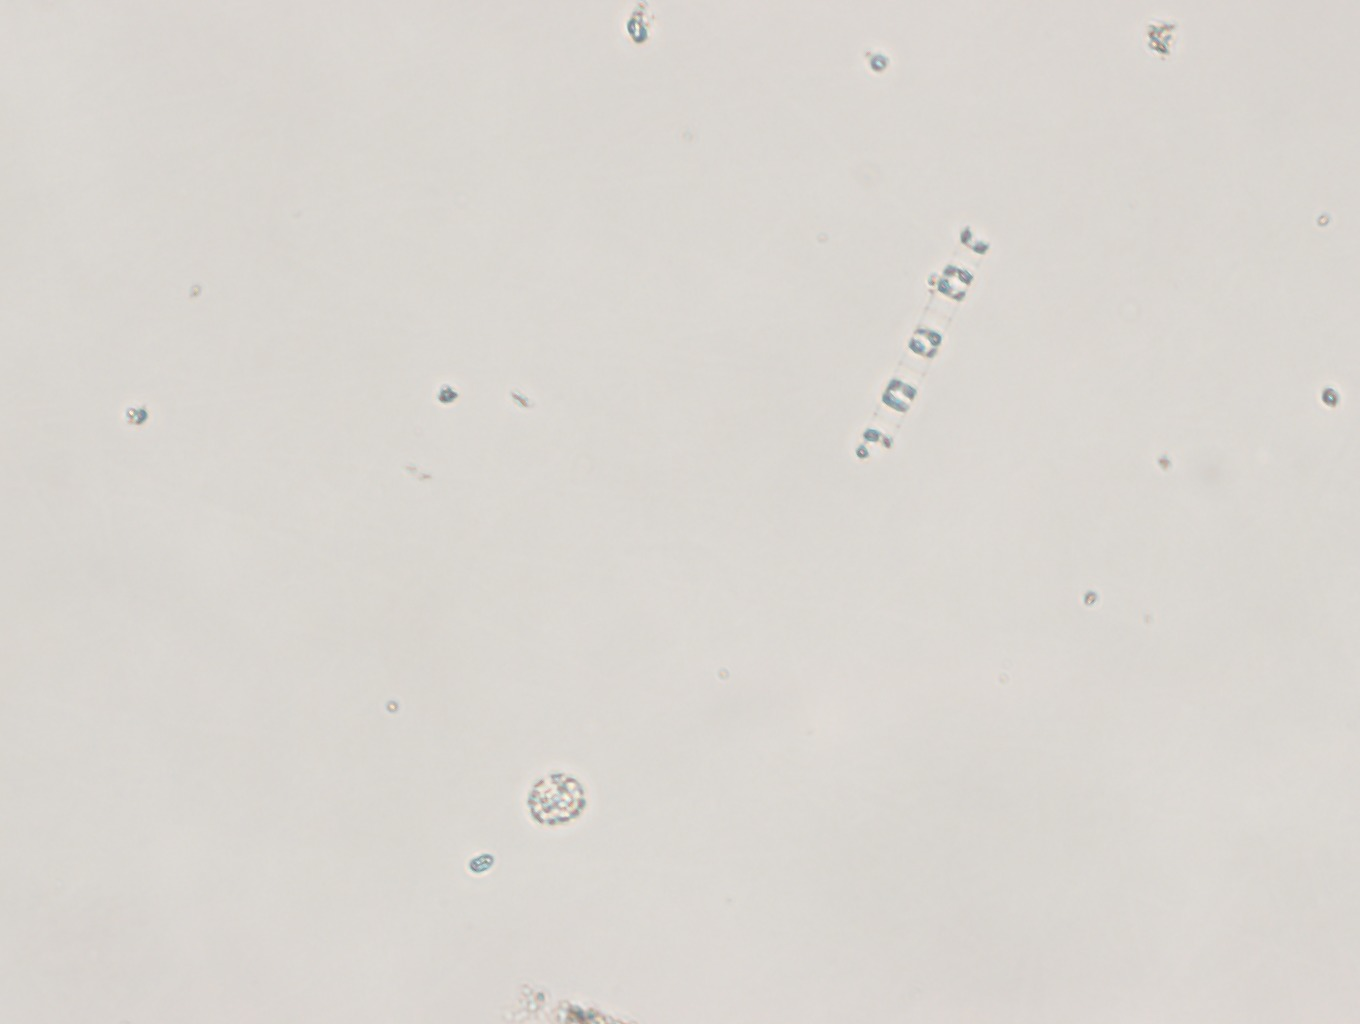coscinodiscus: (518, 764, 604, 835)
skeletonema: (851, 223, 1004, 479)
